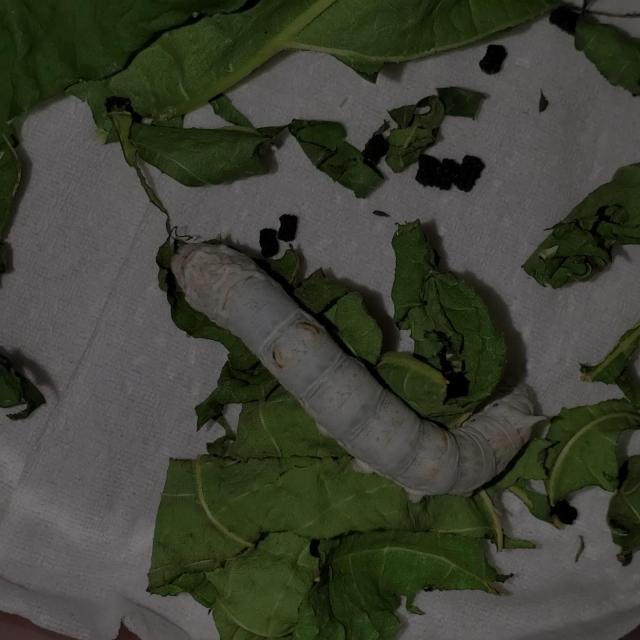Healthy: (143, 194, 556, 510)
